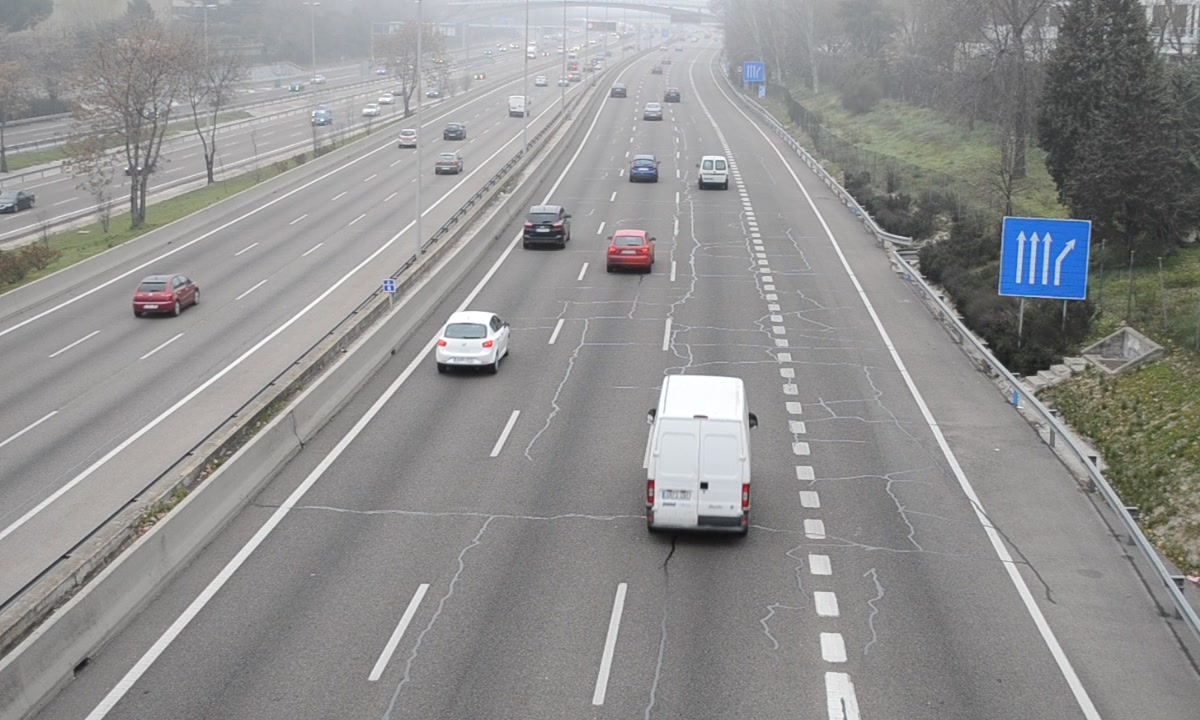car: (435, 310, 508, 367), (522, 205, 570, 246), (607, 230, 655, 270), (629, 155, 660, 181)
van: (647, 375, 752, 534), (698, 155, 731, 192)
